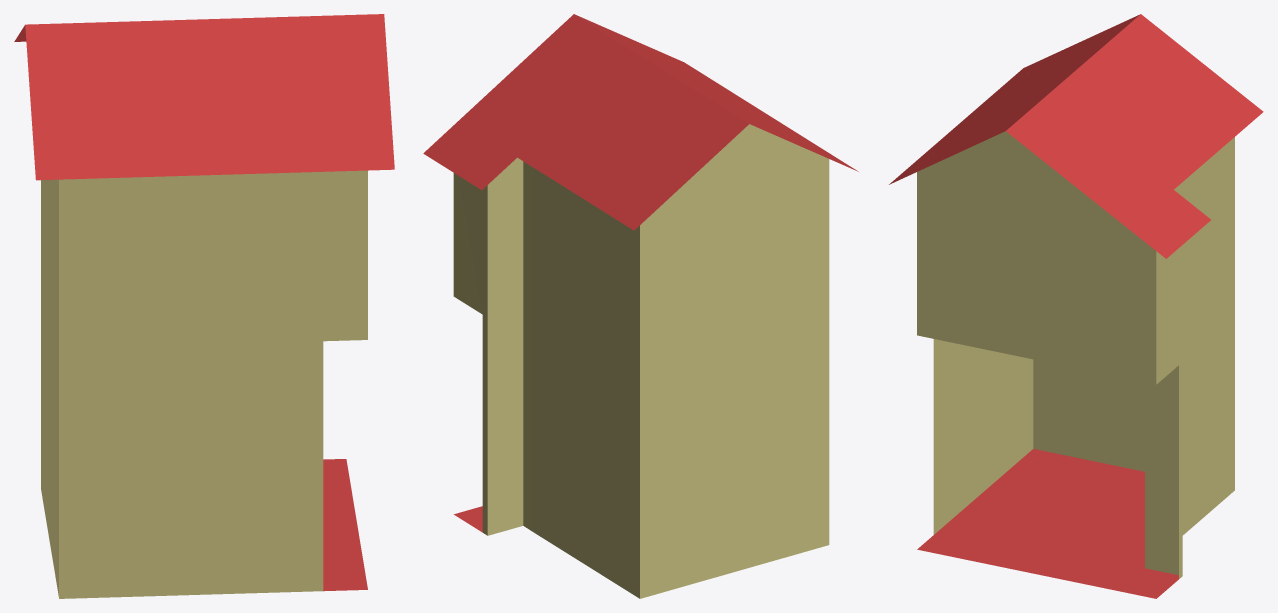
3 renders of one model, left to right at view 1: azimuth 30°, elevation 25°; view 2: azimuth 150°, elevation 25°; view 3: azimuth 270°, elevation 25°, orthographic. The views are drawn at different scales.
Parts seen in each view (by area): view 1: group_5, group_3, group_4, group_6; view 2: group_5, group_3, group_4; view 3: group_5, group_3, group_6, group_4.
Boxes of the visible parts, left/top/right/bottom form: group_5: left=41, top=170, right=367, bottom=598; group_3: left=14, top=14, right=393, bottom=180; group_4: left=25, top=14, right=394, bottom=180; group_6: left=323, top=459, right=367, bottom=591; group_5: left=453, top=124, right=829, bottom=598; group_3: left=453, top=15, right=827, bottom=205; group_4: left=423, top=14, right=858, bottom=230; group_5: left=917, top=131, right=1234, bottom=578; group_3: left=917, top=14, right=1234, bottom=235; group_6: left=917, top=449, right=1178, bottom=598; group_4: left=889, top=14, right=1263, bottom=258.
Bounding box in the file's own units: 14.4 × 13.1 × 17.2.
